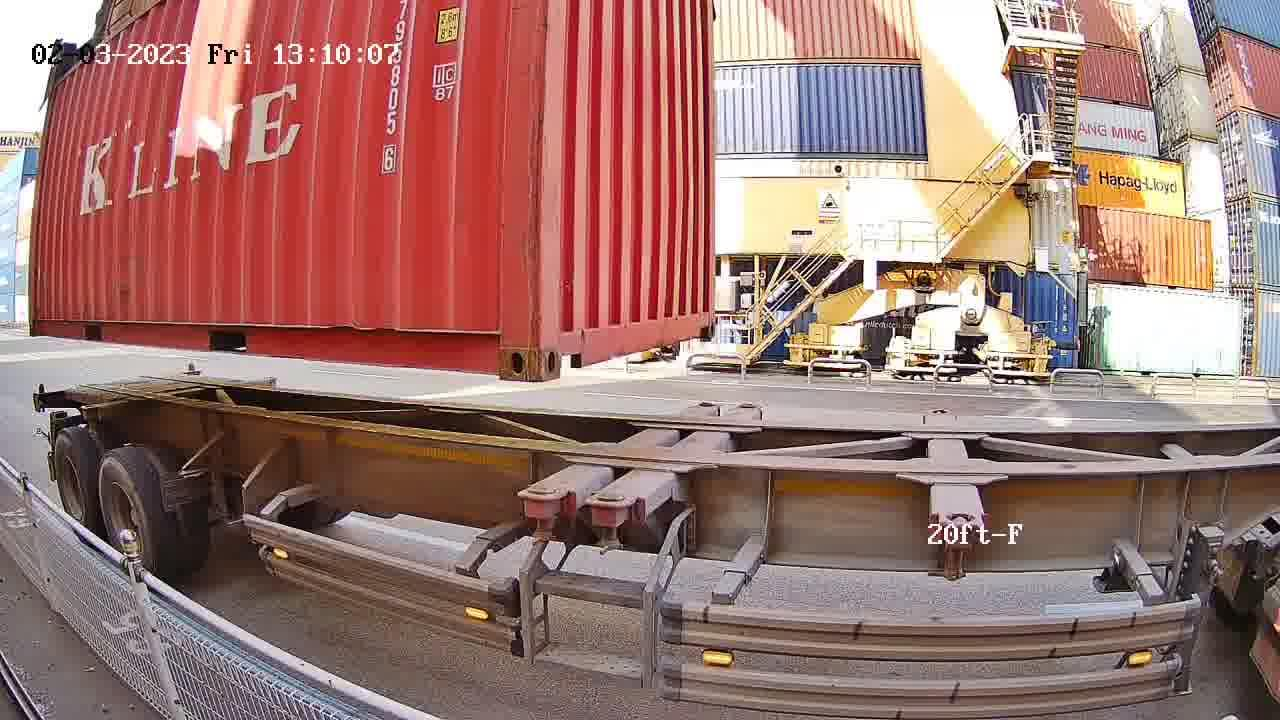Chassis: (516, 402, 718, 501), (580, 403, 764, 510)
Cone: (589, 493, 638, 555), (521, 484, 569, 546)
Hole_L: (540, 302, 601, 383)
Hole_R: (457, 308, 540, 382), (693, 299, 717, 338)
Tire: (100, 450, 156, 579), (54, 435, 97, 542)
